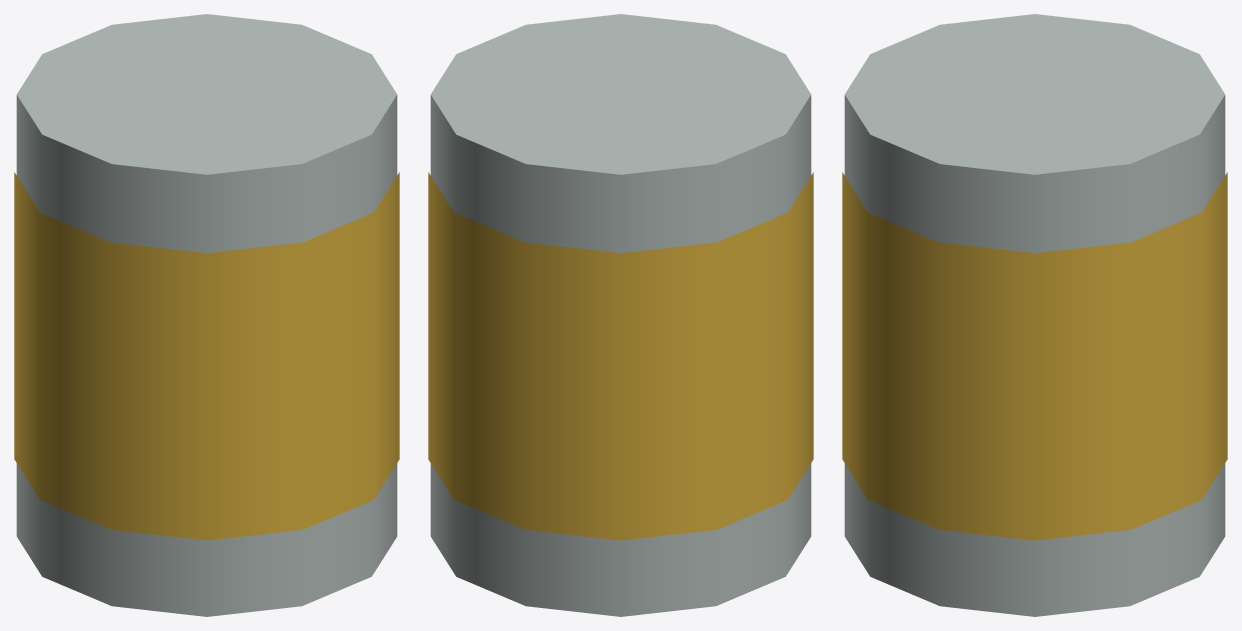
Rendered from product-cannedCorn.glb.
3 views of the same model, side by side, from view 1: azimuth 30°, elevation 25°; view 2: azimuth 150°, elevation 25°; view 3: azimuth 270°, elevation 25° (orthographic).
Parts seen in each view (by area): view 1: n4, n3; view 2: n4, n3; view 3: n4, n3.
Boxes of the visible parts, <box> form: n4: <box>14,172,399,540</box>; n3: <box>16,14,397,616</box>; n4: <box>428,172,813,540</box>; n3: <box>430,14,811,616</box>; n4: <box>842,172,1227,540</box>; n3: <box>844,14,1225,616</box>.
Size of the model in its own units: 0.158 by 0.2 by 0.158.
